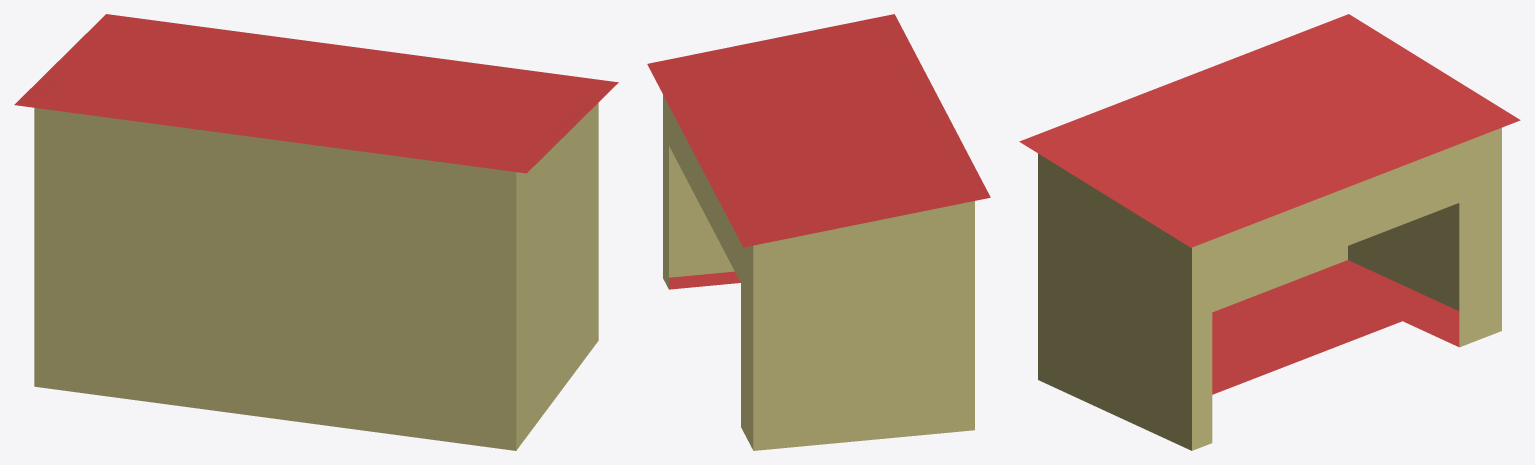
3 renders of one model, left to right at view 1: azimuth 30°, elevation 25°; view 2: azimuth 150°, elevation 25°; view 3: azimuth 270°, elevation 25°, orthographic. The views are drawn at different scales.
Bounding box in the file's own units: 18.26 × 18.71 × 9.79.
